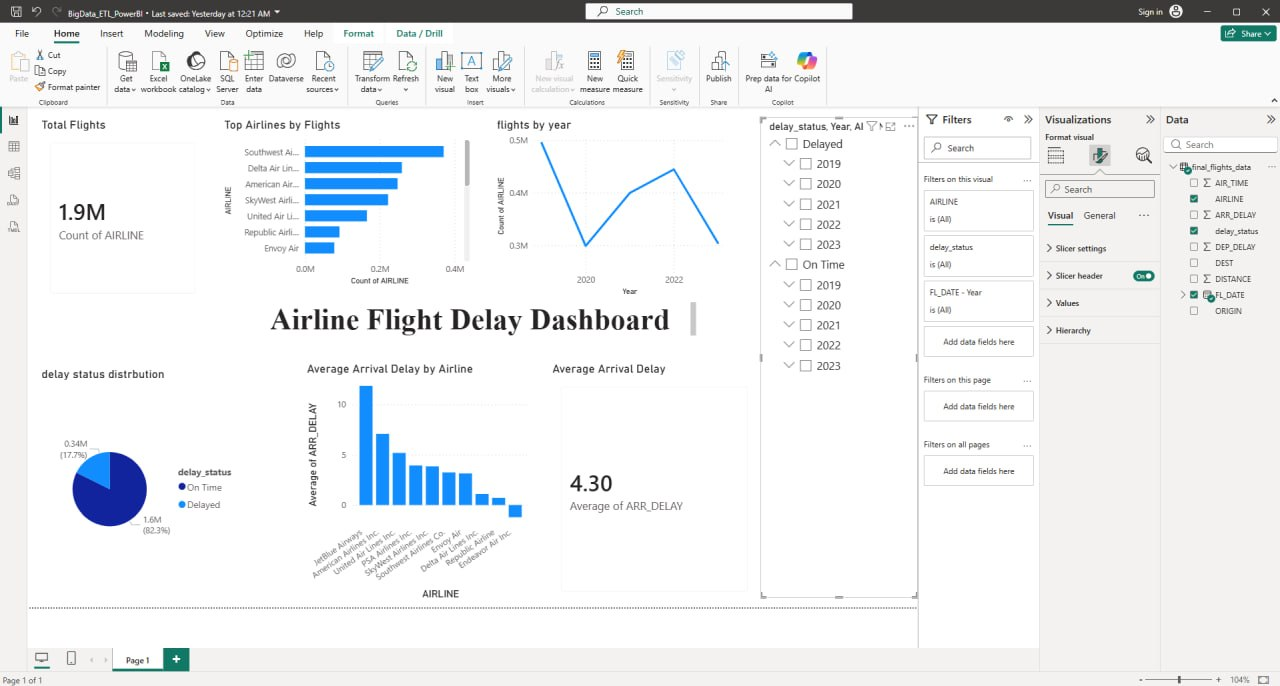

The page's visual inventory and layout, read from the dashboard file:
{"tool":"powerbi","page":{"name":"Page 1","canvas":[1280,720],"ordinal":0},"visuals":[{"type":"cardVisual","title":"Total Flights","fields":{"Data":["CountNonNull(final_flights_data.AIRLINE)"]},"box":[15.4,15.4,243.2,271.7],"z":0},{"type":"pieChart","title":"delay status distrbution","fields":{"Category":["final_flights_data.delay_status"],"Y":["CountNonNull(final_flights_data.AIRLINE)"]},"box":[15.4,373.7,300.1,333.3],"z":1000},{"type":"clusteredBarChart","title":"Top Airlines by Flights","fields":{"Category":["final_flights_data.AIRLINE"],"Y":["CountNonNull(final_flights_data.AIRLINE)"]},"box":[277.6,15.4,363,245.6],"z":2000},{"type":"clusteredColumnChart","title":"Average Arrival Delay by Airline","fields":{"Category":["final_flights_data.AIRLINE"],"Y":["Avg(final_flights_data.ARR_DELAY)"]},"box":[397.4,366.6,328.6,347.6],"z":3000},{"type":"lineChart","title":"flights by year","fields":{"Category":["final_flights_data.FL_DATE.Variation.Date Hierarchy.Year","final_flights_data.FL_DATE.Variation.Date Hierarchy.Quarter","final_flights_data.FL_DATE.Variation.Date Hierarchy.Month","final_flights_data.FL_DATE.Variation.Date Hierarchy.Day"],"Y":["CountNonNull(final_flights_data.AIRLINE)"]},"box":[670.3,15.4,340.5,261],"z":4000},{"type":"slicer","fields":{"Values":["final_flights_data.delay_status","final_flights_data.FL_DATE.Variation.Date Hierarchy.Year","final_flights_data.AIRLINE"]},"box":[1053.4,15.4,226.6,691.6],"z":5000},{"type":"cardVisual","title":"Average Arrival Delay","fields":{"Data":["Avg(final_flights_data.ARR_DELAY)"]},"box":[749.7,366.6,303.7,348.8],"z":5001},{"type":"textbox","box":[344,276.4,621.6,66.4],"z":5002}]}

Visuals, with their boxes on the page's 1280x720 design canvas (x1, y1, x2, y2). These are canvas units, not pixel positions in the 1280x686 screenshot, which may show the page scaled, cropped or inside an application window:
"Total Flights" cardVisual: (15, 15, 259, 287)
"delay status distrbution" pieChart: (15, 374, 316, 707)
"Top Airlines by Flights" clusteredBarChart: (278, 15, 641, 261)
"Average Arrival Delay by Airline" clusteredColumnChart: (397, 367, 726, 714)
"flights by year" lineChart: (670, 15, 1011, 276)
slicer - final_flights_data.delay_status x final_flights_data.FL_DATE.Variation.Date Hierarchy.Year: (1053, 15, 1280, 707)
"Average Arrival Delay" cardVisual: (750, 367, 1053, 715)
textbox: (344, 276, 966, 343)
